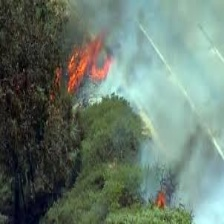fire: (50, 37, 109, 100), (150, 187, 166, 213)
